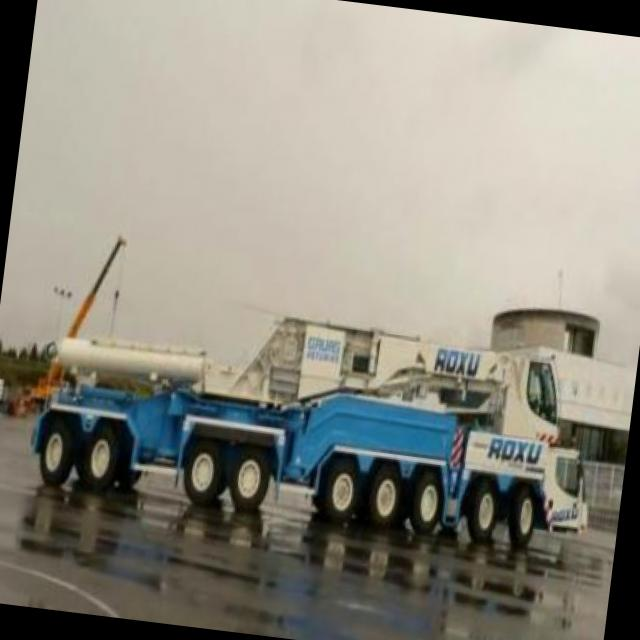Mobile Crane: (22, 278, 610, 588)
